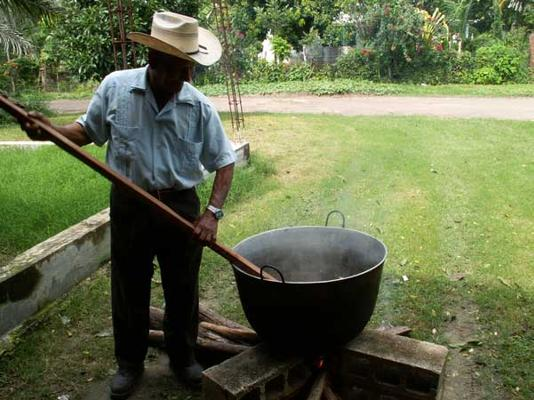person: (19, 12, 239, 396)
